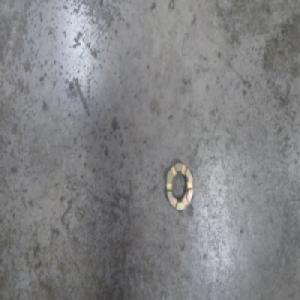Nut: (164, 158, 193, 214)
